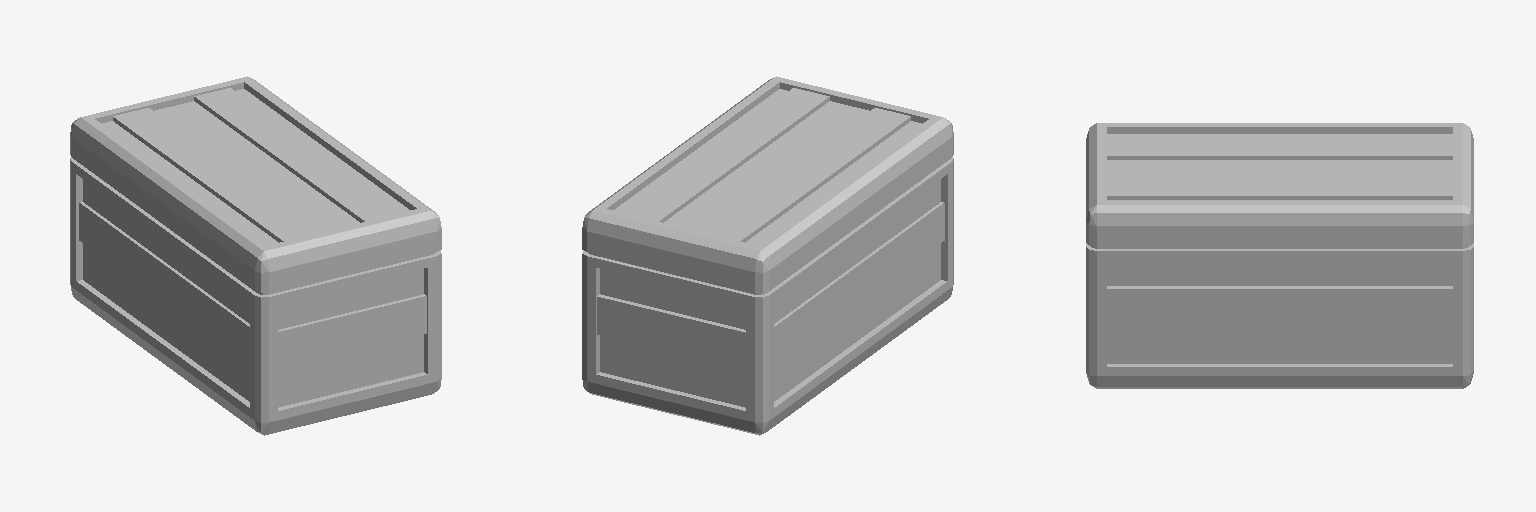
Rendered from crate_2.obj.
3 views of the same model, side by side, from view 1: azimuth 30°, elevation 25°; view 2: azimuth 150°, elevation 25°; view 3: azimuth 270°, elevation 25° (orthographic).
Parts seen in each view (by area): view 1: cratewide_crates_0; view 2: cratewide_crates_0; view 3: cratewide_crates_0.
Boxes of the visible parts, x1,y1,x2,y2 form: cratewide_crates_0: [70, 76, 441, 435]; cratewide_crates_0: [582, 76, 953, 435]; cratewide_crates_0: [1086, 123, 1473, 388].
Bounding box in the file's own units: 13.6 × 12.88 × 24.56.